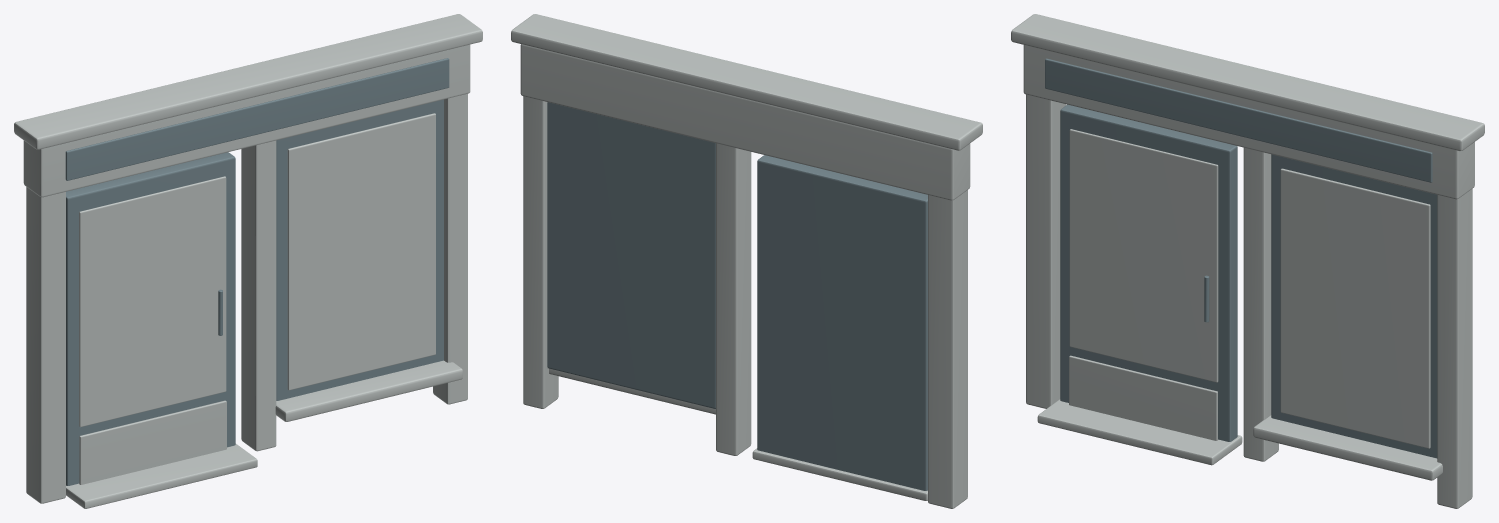
The model's file is shop-front.glb.
The picture shows the model from 3 angles, left to right: view 1: azimuth 30°, elevation 25°; view 2: azimuth 150°, elevation 25°; view 3: azimuth 330°, elevation 25°; orthographic projection.
Parts seen in each view (by area): view 1: window_glass, door_glass, cornice, facade_pier, shop_sign, door_frame, facade_pier.001, header, window_frame, door_kickplate, facade_pier.002, threshold (+1 smaller); view 2: door_frame, window_frame, header, cornice, facade_pier, facade_pier.001, facade_pier.002, threshold, window_sill; view 3: window_glass, door_glass, cornice, door_frame, shop_sign, facade_pier.002, header, facade_pier, facade_pier.001, window_frame, door_kickplate, threshold (+1 smaller).
Boxes of the visible parts, x1,y1,x2,y2 form: window_glass: [287, 113, 435, 390]; door_glass: [79, 176, 226, 427]; cornice: [14, 14, 482, 149]; facade_pier: [26, 187, 65, 503]; shop_sign: [65, 58, 449, 180]; door_frame: [66, 152, 235, 485]; facade_pier.001: [241, 140, 276, 451]; header: [23, 44, 470, 197]; window_frame: [276, 99, 443, 400]; door_kickplate: [79, 400, 226, 484]; facade_pier.002: [433, 93, 467, 404]; threshold: [66, 443, 257, 508]; door_frame: [757, 155, 927, 490]; window_frame: [547, 102, 715, 408]; header: [520, 44, 970, 200]; cornice: [511, 14, 982, 150]; facade_pier: [928, 190, 967, 508]; facade_pier.001: [716, 143, 751, 455]; facade_pier.002: [523, 96, 558, 408]; threshold: [752, 448, 927, 500]; window_sill: [549, 368, 715, 414]; window_glass: [1280, 168, 1430, 448]; door_glass: [1069, 129, 1218, 382]; cornice: [1011, 14, 1484, 151]; door_frame: [1060, 104, 1237, 441]; shop_sign: [1045, 58, 1432, 182]; facade_pier.002: [1437, 188, 1472, 508]; header: [1023, 45, 1474, 199]; facade_pier: [1026, 94, 1066, 408]; facade_pier.001: [1243, 147, 1278, 461]; window_frame: [1271, 154, 1437, 458]; door_kickplate: [1069, 355, 1217, 440]; threshold: [1037, 399, 1242, 465].
Bounding box in the file's own units: 3.78 × 3.01 × 0.505.
